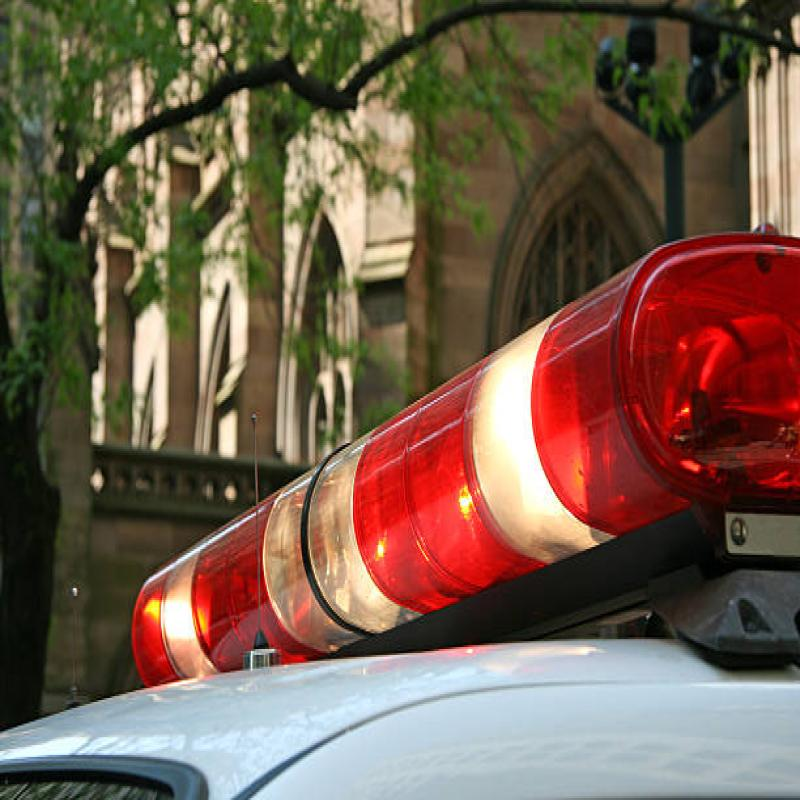AmbulanceSiren: (113, 304, 774, 578)
